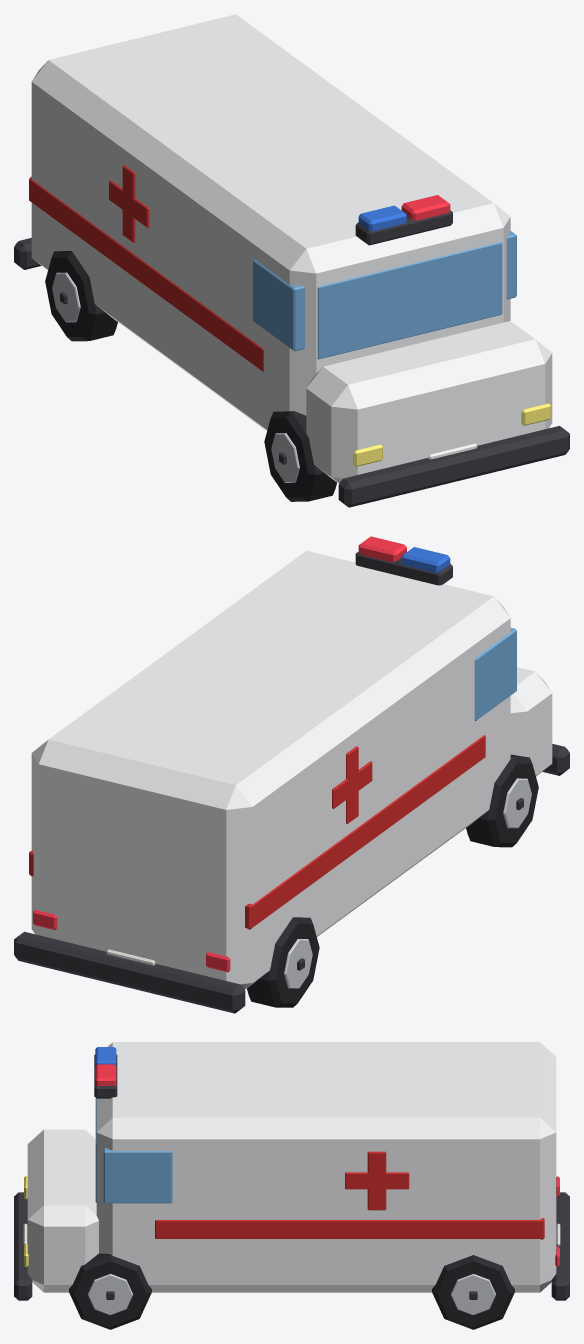
File: Ambulance.fbx
3 renders of one model, top to bottom at view 1: azimuth 30°, elevation 25°; view 2: azimuth 150°, elevation 25°; view 3: azimuth 270°, elevation 25°, orthographic. The views are drawn at different scales.
Visible parts, largest first — view 1: Ambulance, Ambulance_WheelFR, Ambulance_WheelBR; view 2: Ambulance, Ambulance_WheelFR, Ambulance_WheelBR; view 3: Ambulance, Ambulance_WheelFL, Ambulance_WheelBL.
Part boxes in pixels (left/top/right/bottom): Ambulance: left=14, top=14, right=569, bottom=507; Ambulance_WheelFR: left=264, top=411, right=336, bottom=501; Ambulance_WheelBR: left=45, top=251, right=117, bottom=341; Ambulance: left=14, top=536, right=569, bottom=1013; Ambulance_WheelFR: left=466, top=754, right=538, bottom=847; Ambulance_WheelBR: left=247, top=917, right=319, bottom=1007; Ambulance: left=14, top=1042, right=569, bottom=1300; Ambulance_WheelFL: left=69, top=1253, right=151, bottom=1329; Ambulance_WheelBL: left=432, top=1255, right=514, bottom=1329.
Bounding box in the file's own units: 5.02 × 5.35 × 12.1.
1 material, 1 textured.
